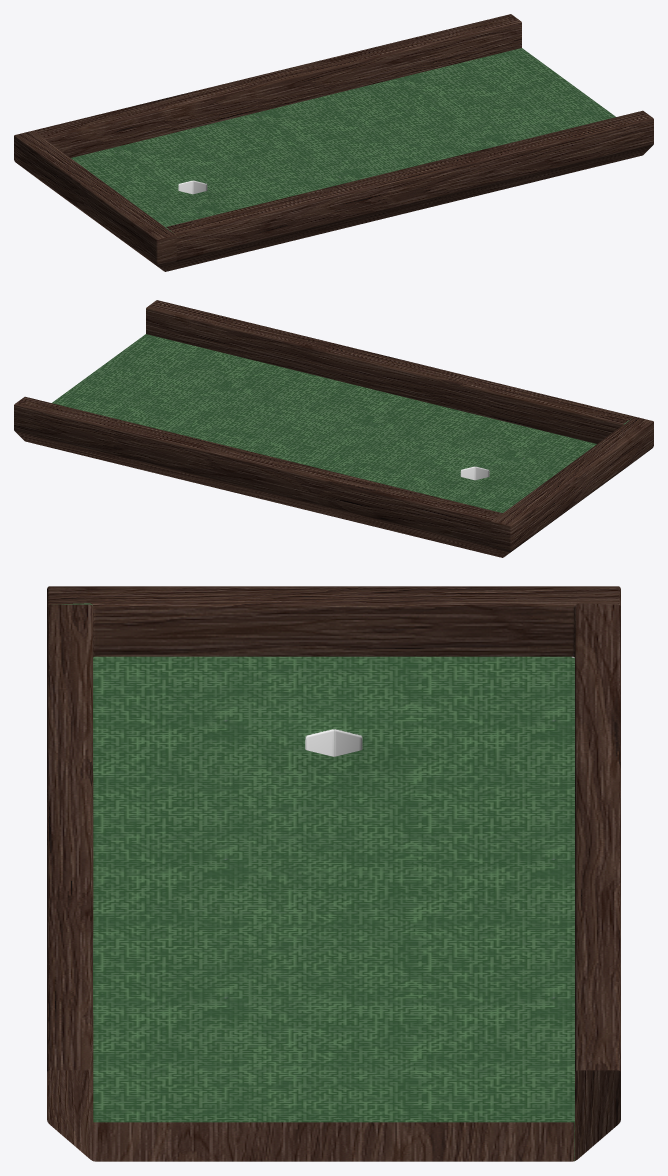
Rendered from Course_End.glb.
The picture shows the model from 3 angles, top to bottom: view 1: azimuth 30°, elevation 25°; view 2: azimuth 150°, elevation 25°; view 3: azimuth 270°, elevation 25°; orthographic projection. The views are drawn at different scales.
Parts seen in each view (by area): view 1: CourseEnd.Walls, CourseEnd.Green; view 2: CourseEnd.Walls, CourseEnd.Green; view 3: CourseEnd.Green, CourseEnd.Walls.
Boxes of the visible parts, x1,y1,x2,y2 form: CourseEnd.Walls: (14, 14, 653, 271); CourseEnd.Green: (71, 48, 615, 226); CourseEnd.Walls: (14, 300, 653, 557); CourseEnd.Green: (52, 334, 596, 512); CourseEnd.Green: (93, 656, 574, 1122); CourseEnd.Walls: (47, 586, 620, 1161).
Bounding box in the file's own units: 2 × 0.1759 × 1.
1 material, 1 textured.
